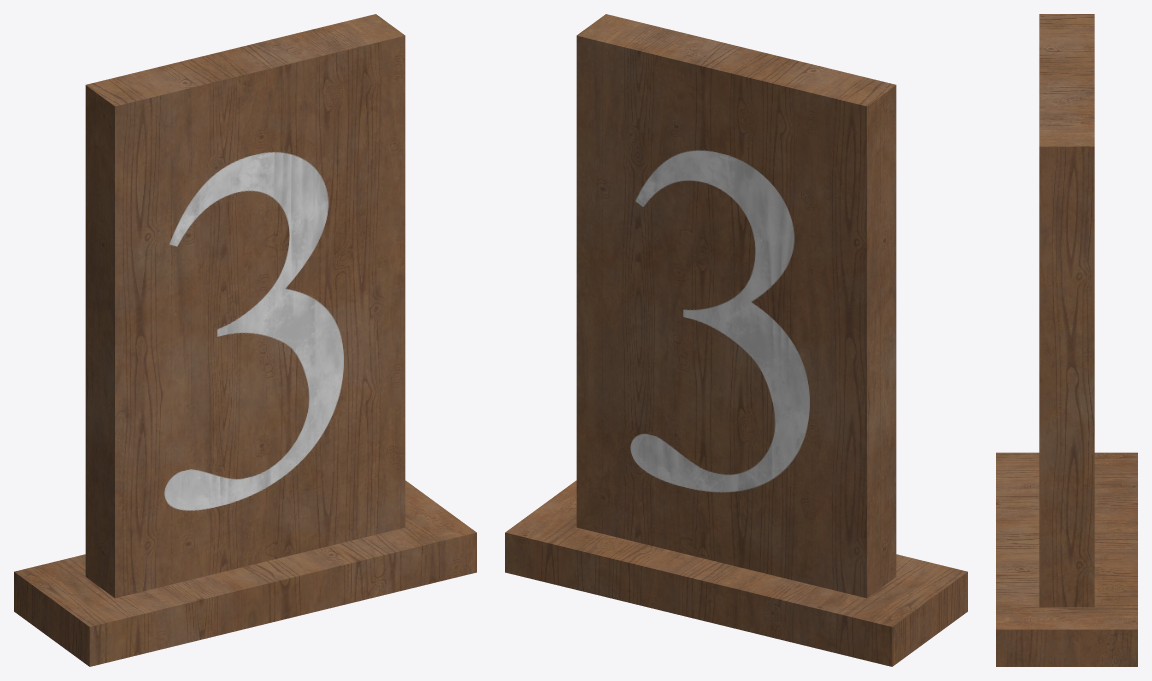
The model's file is Number03Virginia.fbx.
3 views of the same model, side by side, from view 1: azimuth 30°, elevation 25°; view 2: azimuth 150°, elevation 25°; view 3: azimuth 270°, elevation 25° (orthographic). The views are drawn at different scales.
Parts seen in each view (by area): view 1: Number03; view 2: Number03; view 3: Number03.
Boxes of the visible parts, x1,y1,x2,y2 form: Number03: [14, 14, 476, 666]; Number03: [505, 14, 967, 666]; Number03: [996, 14, 1137, 666].
Size of the model in its own units: 5.89 by 7.73 by 1.99.
Materials: 1 (1 with a texture image).
